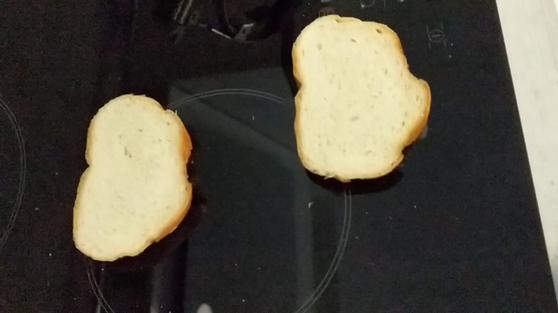white_bread: (286, 15, 436, 181), (73, 90, 196, 265)
